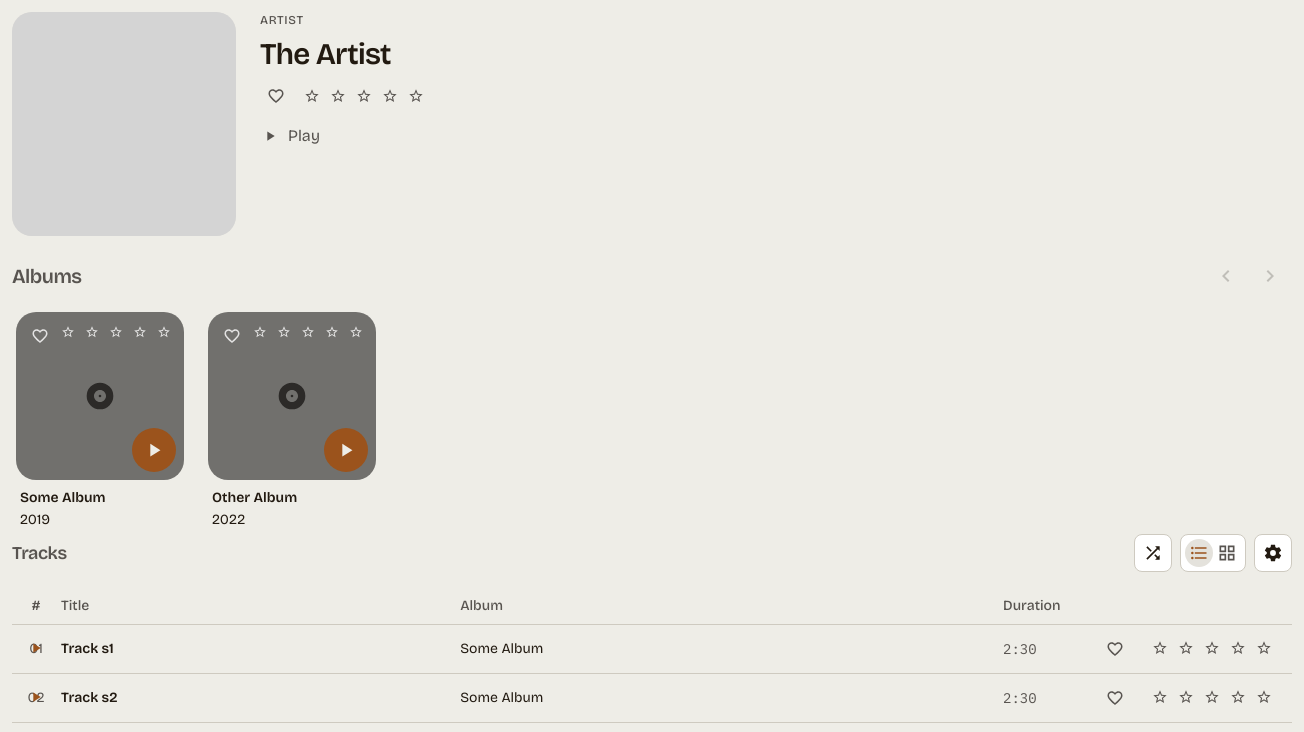
Test case: Artist detail (react-query, embedded songs, P5) › toggles an artist favorite in place and invalidates the artists lists
Expected: the heading "The Artist" is shown, [260, 36, 391, 72]
Click the button named "Add favorite" below "The Artist" at (276,96), box [260, 80, 292, 112]
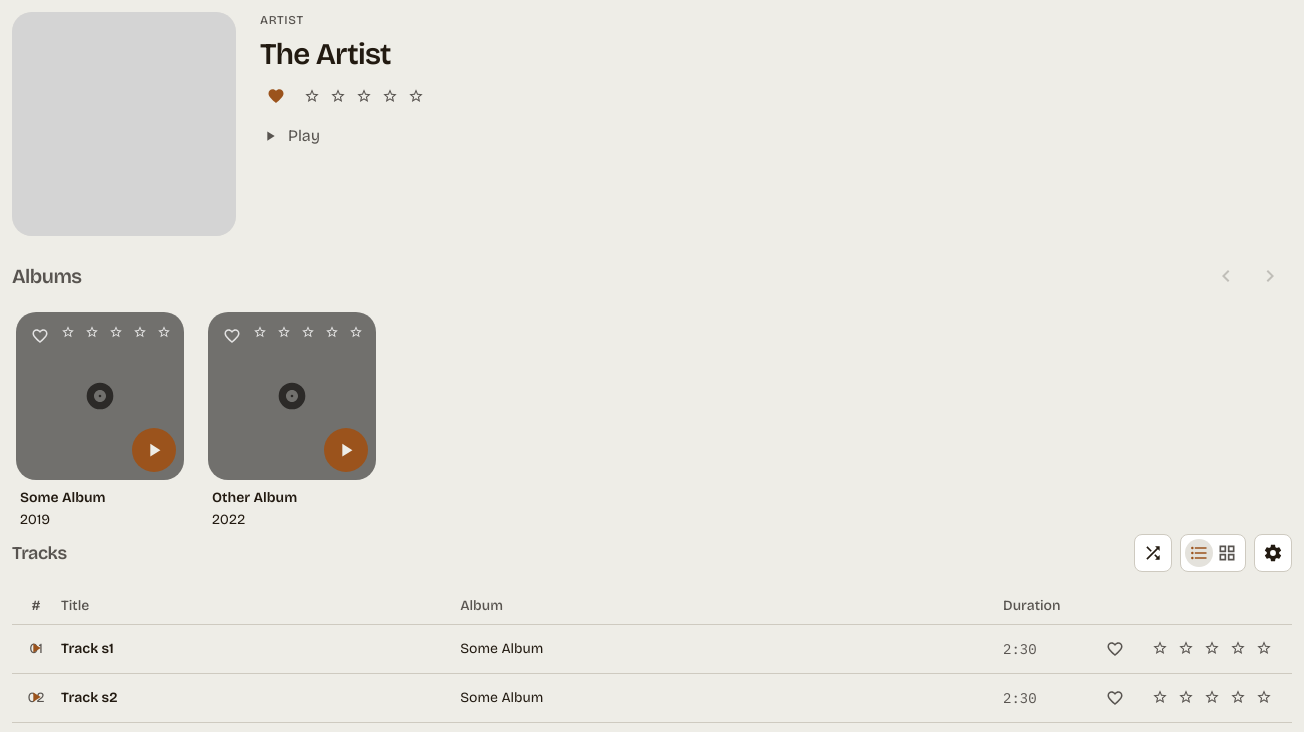
Result: the button named "Remove favorite" is shown at [260, 80, 292, 112]
